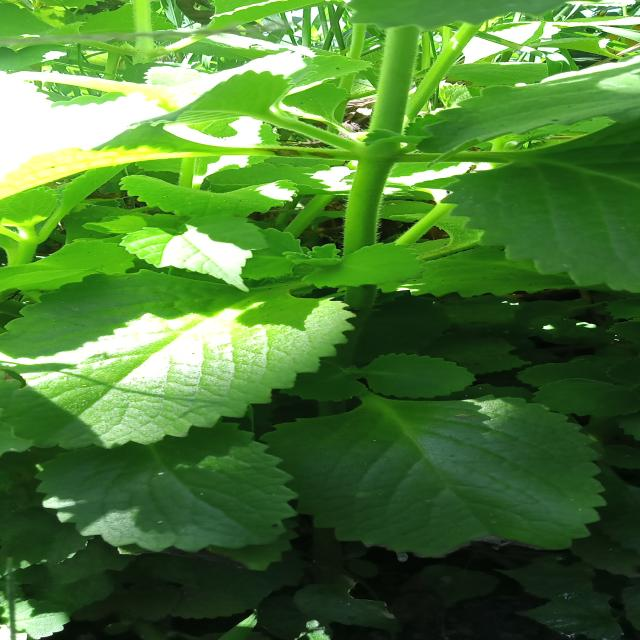Oregano: (0, 261, 346, 457), (278, 389, 630, 563), (8, 416, 319, 558), (329, 0, 458, 297), (80, 54, 380, 177), (73, 163, 329, 305), (339, 343, 506, 409)
